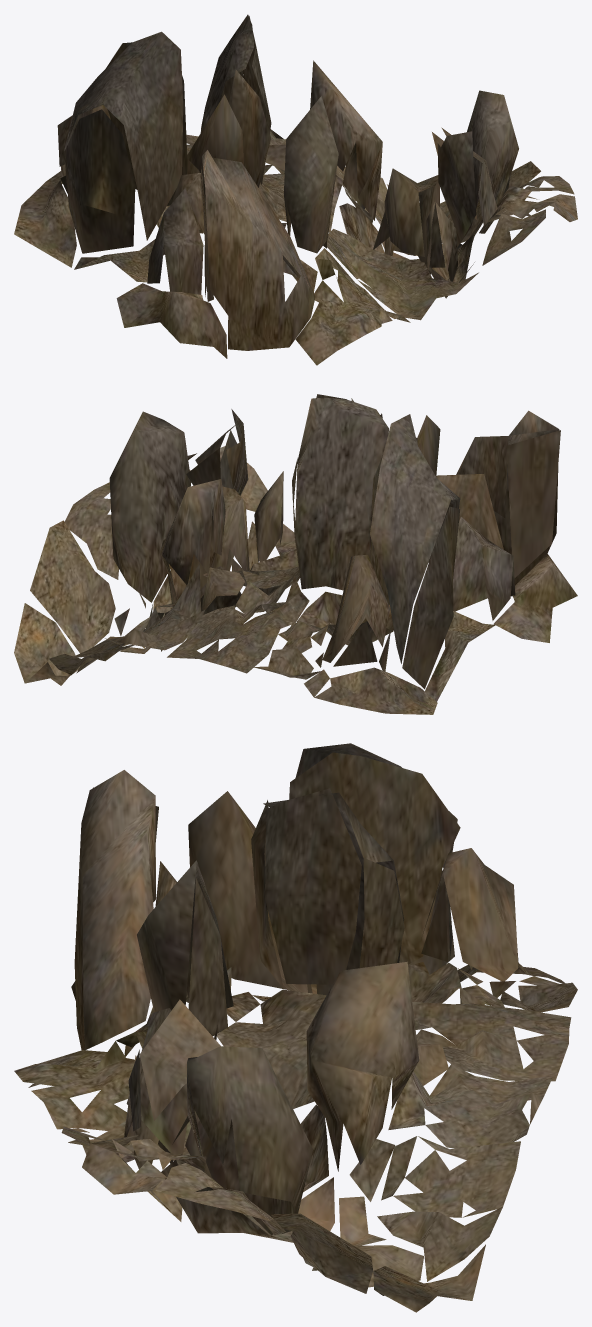
The model's file is shore_rock.glb.
3 renders of one model, top to bottom at view 1: azimuth 30°, elevation 25°; view 2: azimuth 150°, elevation 25°; view 3: azimuth 270°, elevation 25°, orthographic. The views are drawn at different scales.
Visible parts, largest first — view 1: shore_rock; view 2: shore_rock; view 3: shore_rock.
Boxes of the visible parts, x1,y1,x2,y2 form: shore_rock: [14, 14, 577, 365]; shore_rock: [14, 394, 577, 714]; shore_rock: [14, 743, 577, 1312].
Size of the model in its own units: 1 by 0.66 by 0.86.
Materials: 1 (1 with a texture image).
